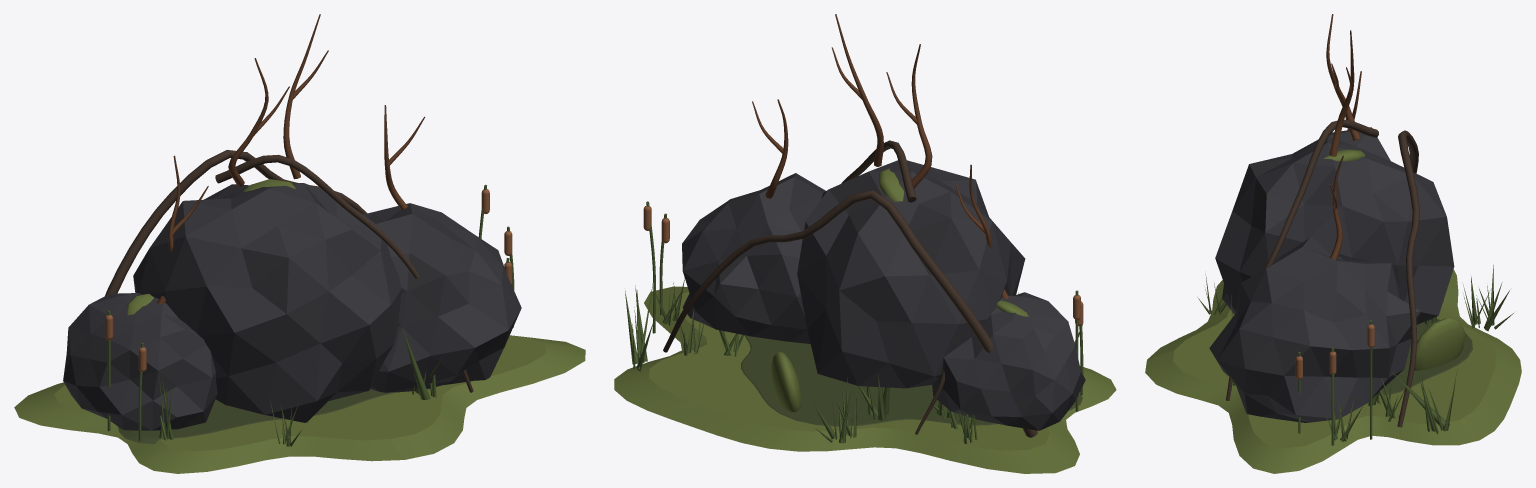
File: BAYOU_ROCK.glb
The picture shows the model from 3 angles, left to right: view 1: azimuth 30°, elevation 25°; view 2: azimuth 150°, elevation 25°; view 3: azimuth 270°, elevation 25°; orthographic projection. The views are drawn at different scales.
Parts seen in each view (by area): view 1: Boulders, Ground, Roots, Twigs, Ground_Mud, Grass, Cattail_Heads, Cattail_Stems, Moss; view 2: Boulders, Ground, Ground_Mud, Roots, Grass, Twigs, Moss, Cattail_Stems, Cattail_Heads; view 3: Boulders, Ground, Roots, Grass, Moss, Twigs, Ground_Mud, Cattail_Stems, Cattail_Heads.
Boxes of the visible parts, x1,y1,x2,y2 form: Boulders: [63, 183, 521, 430]; Ground: [14, 335, 585, 473]; Roots: [105, 150, 473, 392]; Twigs: [157, 14, 425, 304]; Ground_Mud: [118, 389, 395, 443]; Grass: [159, 327, 442, 446]; Cattail_Heads: [105, 189, 512, 372]; Cattail_Stems: [107, 184, 514, 440]; Moss: [127, 179, 295, 315]; Boulders: [682, 160, 1085, 430]; Ground: [614, 286, 1116, 473]; Ground_Mud: [741, 335, 1082, 426]; Roots: [663, 140, 1037, 437]; Grass: [625, 278, 1083, 443]; Twigs: [752, 14, 1008, 298]; Moss: [771, 168, 1028, 412]; Cattail_Stems: [646, 201, 1083, 411]; Cattail_Heads: [643, 205, 1083, 326]; Boulders: [1209, 127, 1454, 422]; Ground: [1145, 269, 1521, 473]; Roots: [1226, 119, 1443, 427]; Grass: [1197, 265, 1513, 441]; Moss: [1323, 149, 1465, 370]; Twigs: [1326, 14, 1361, 260]; Ground_Mud: [1378, 319, 1472, 395]; Cattail_Stems: [1298, 320, 1372, 445]; Cattail_Heads: [1295, 324, 1374, 379].
Bounding box in the file's own units: 11.26 × 8.04 × 7.88.
